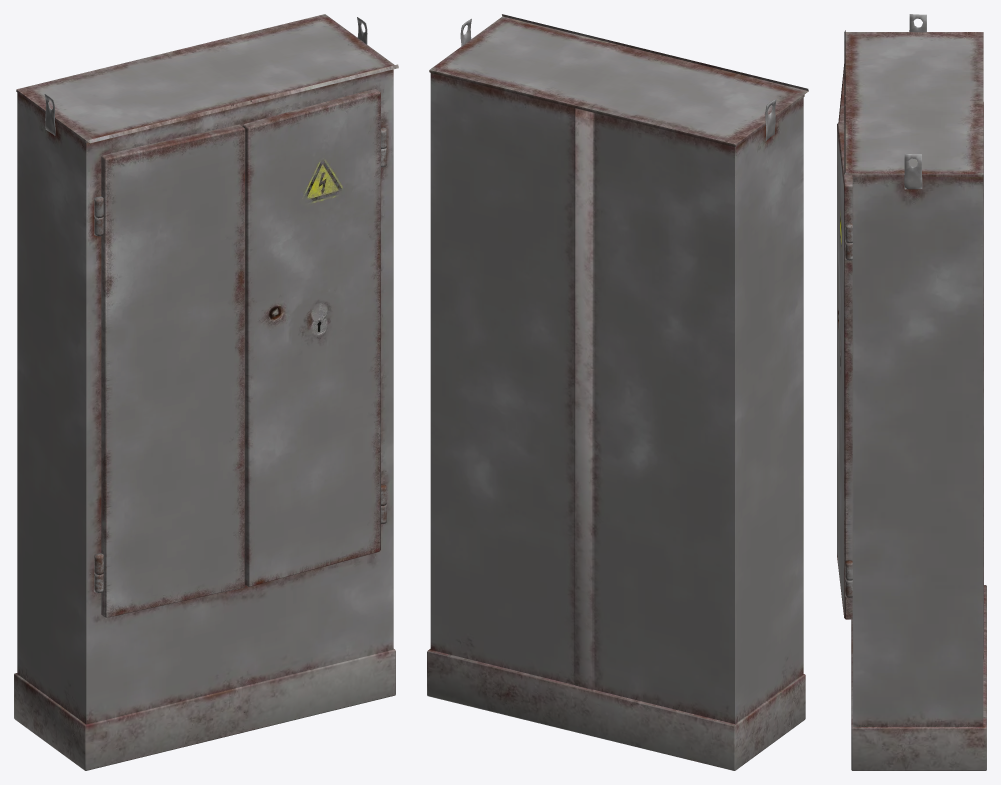
Rendered from util_cabinet.glb.
3 views of the same model, side by side, from view 1: azimuth 30°, elevation 25°; view 2: azimuth 150°, elevation 25°; view 3: azimuth 270°, elevation 25° (orthographic). The views are drawn at different scales.
Parts seen in each view (by area): view 1: util_cabinet; view 2: util_cabinet; view 3: util_cabinet.
Part boxes in pixels (box(x1,y1,x2,y2)): util_cabinet: box(14, 14, 398, 770); util_cabinet: box(427, 14, 808, 770); util_cabinet: box(837, 14, 986, 770).
Bounding box in the file's own units: 0.998 × 1.99 × 0.4383.
4 materials, 4 textured.
